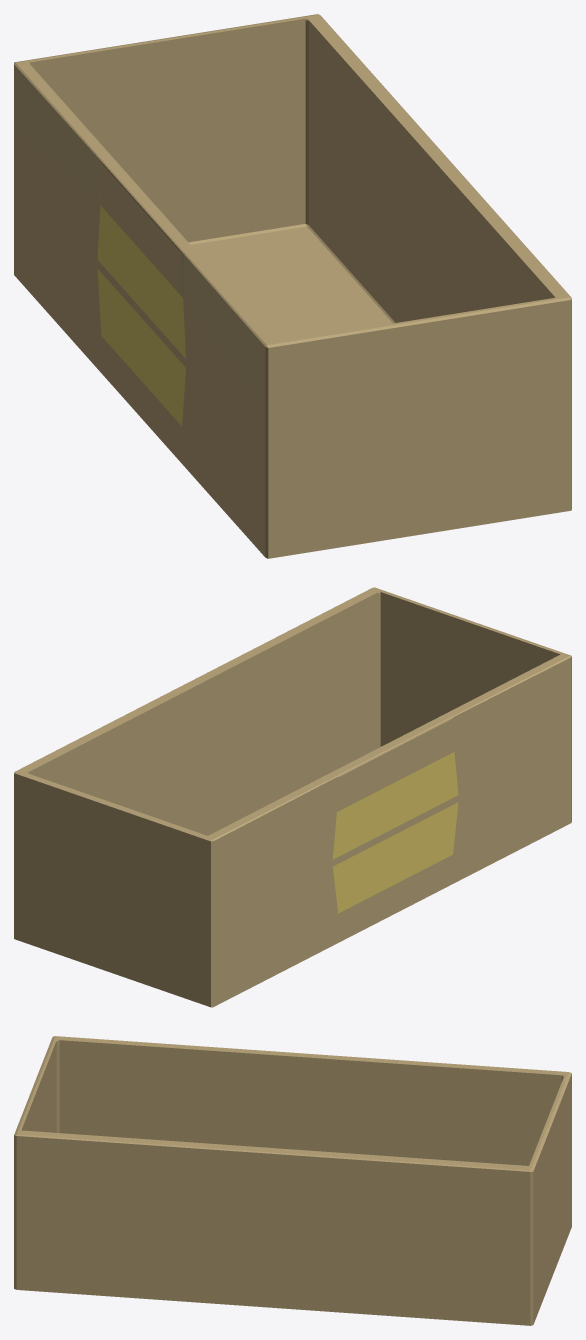
Rendered from boxbun.glb.
3 views of the same model, one above another, from view 1: azimuth 30°, elevation 25°; view 2: azimuth 150°, elevation 25°; view 3: azimuth 270°, elevation 25° (orthographic). The views are drawn at different scales.
Visible parts, largest first — view 1: Cube; view 2: Cube; view 3: Cube.
Part boxes in pixels (box(x1,y1,x2,y2)): Cube: box(14, 14, 571, 558); Cube: box(14, 587, 571, 1007); Cube: box(14, 1036, 571, 1325).
Bounding box in the file's own units: 0.5058 × 0.2704 × 0.88.
